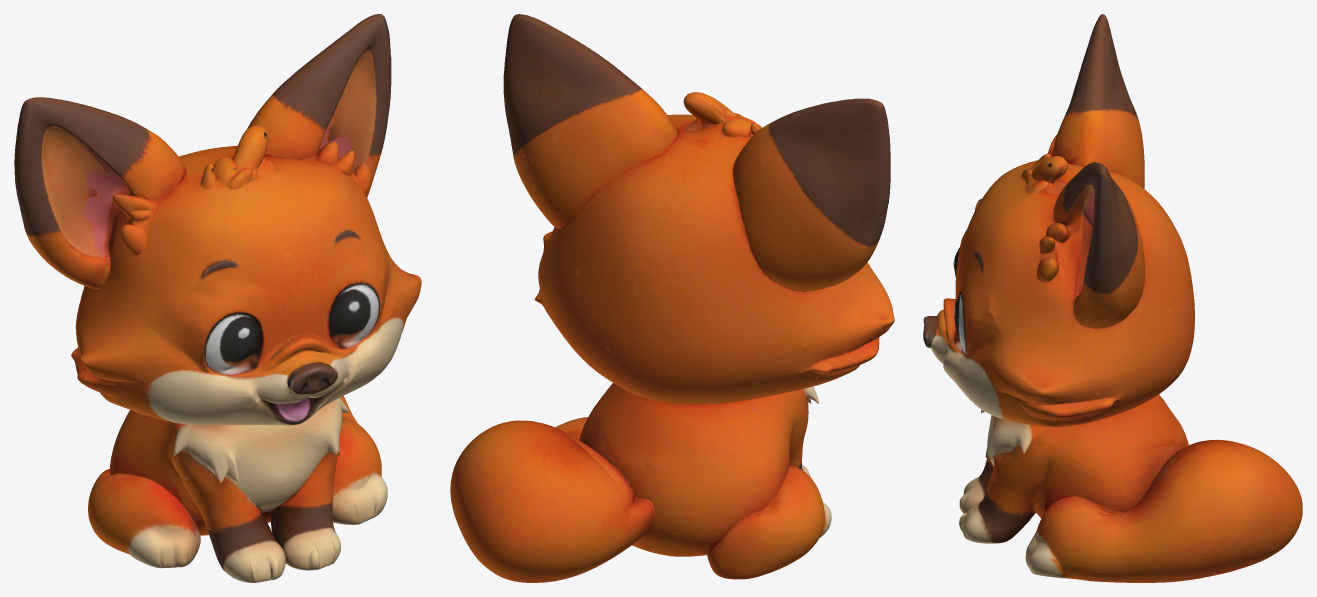
File: foxy-optimized.glb
The picture shows the model from 3 angles, left to right: view 1: azimuth 30°, elevation 25°; view 2: azimuth 150°, elevation 25°; view 3: azimuth 270°, elevation 25°; orthographic projection. The views are drawn at different scales.
Size of the model in its own units: 1.66 by 2 by 1.6.
1 material, 1 textured.
